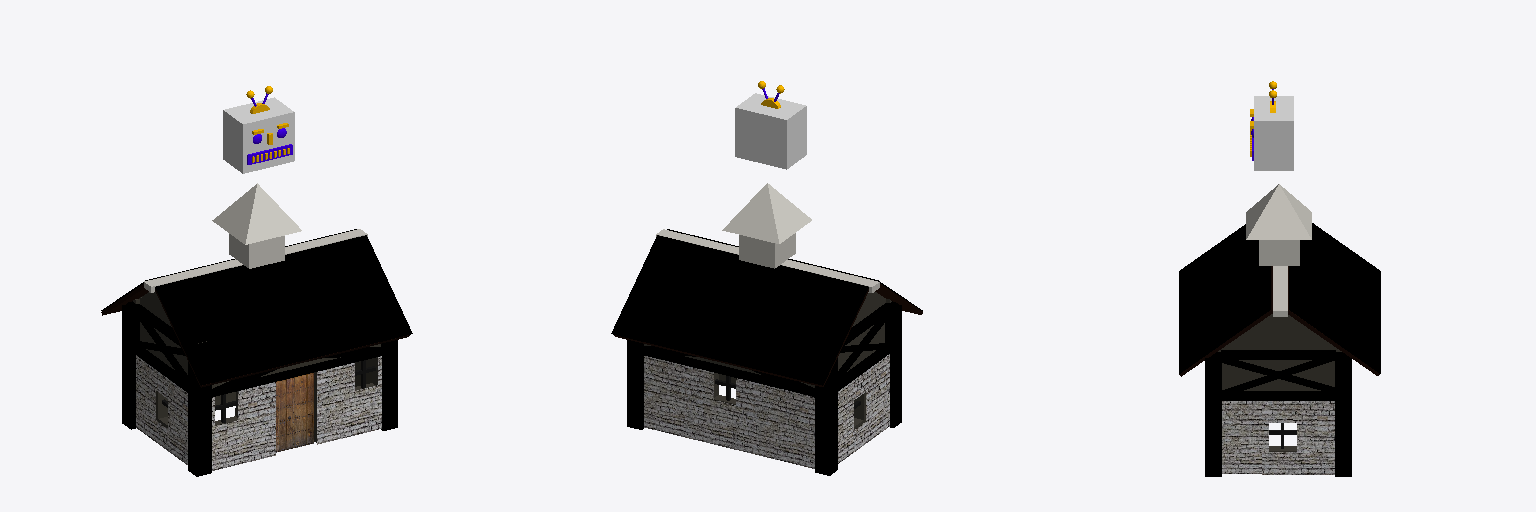
3 renders of one model, left to right at view 1: azimuth 30°, elevation 25°; view 2: azimuth 150°, elevation 25°; view 3: azimuth 270°, elevation 25°, orthographic.
Visible parts, largest first — view 1: DucksHOUSING1:polySurface15 DucksHOUSING1:polySurface23, DucksHOUSING1:pCube33, Robot:pCube25, DucksHOUSING1:pPlane9, DucksHOUSING1:pPlane8, DucksHOUSING1:pPlane20, DucksHOUSING1:polySurface19, DucksHOUSING1:pCube22, DucksHOUSING1:pCube29, DucksHOUSING1:pPlane15, DucksHOUSING1:pCube24, DucksHOUSING1:pPlane16 (+2 smaller); view 2: DucksHOUSING1:polySurface15 DucksHOUSING1:polySurface24, DucksHOUSING1:pCube33, Robot:pCube25, DucksHOUSING1:pPlane11, DucksHOUSING1:pPlane12, DucksHOUSING1:pPlane13, DucksHOUSING1:pCube24, DucksHOUSING1:pCube29, DucksHOUSING1:pPlane15, DucksHOUSING1:polySurface19, DucksHOUSING1:pPlane16, DucksHOUSING1:pCube22 (+2 smaller); view 3: DucksHOUSING1:polySurface15 DucksHOUSING1:polySurface24, DucksHOUSING1:polySurface15 DucksHOUSING1:polySurface23, DucksHOUSING1:pPlane19, DucksHOUSING1:polySurface19, DucksHOUSING1:pCube33, Robot:pCube25, DucksHOUSING1:pCube23, DucksHOUSING1:pCube21, DucksHOUSING1:pCube30 DucksHOUSING1:polySurface37, DucksHOUSING1:polySurface36 DucksHOUSING1:pCube30, DucksHOUSING1:pCube30 DucksHOUSING1:polySurface39, DucksHOUSING1:pCube30 DucksHOUSING1:polySurface38.
Part boxes in pixels (x1,y1,x2,y2): DucksHOUSING1:polySurface15 DucksHOUSING1:polySurface23: (155, 235, 412, 385); DucksHOUSING1:pCube33: (144, 183, 367, 292); Robot:pCube25: (223, 86, 294, 173); DucksHOUSING1:pPlane9: (317, 356, 381, 444); DucksHOUSING1:pPlane8: (212, 382, 275, 470); DucksHOUSING1:pPlane20: (276, 373, 313, 452); DucksHOUSING1:polySurface19: (133, 292, 380, 442); DucksHOUSING1:pCube22: (188, 362, 211, 476); DucksHOUSING1:pCube29: (127, 301, 187, 392); DucksHOUSING1:pPlane15: (136, 355, 168, 449); DucksHOUSING1:pCube24: (122, 304, 139, 429); DucksHOUSING1:pPlane16: (158, 372, 187, 464); DucksHOUSING1:polySurface15 DucksHOUSING1:polySurface24: (611, 235, 868, 385); DucksHOUSING1:pCube33: (656, 183, 879, 292); Robot:pCube25: (735, 81, 806, 169); DucksHOUSING1:pPlane11: (752, 383, 814, 468); DucksHOUSING1:pPlane12: (644, 356, 706, 440); DucksHOUSING1:pPlane13: (684, 365, 758, 453); DucksHOUSING1:pCube24: (815, 358, 837, 475); DucksHOUSING1:pCube29: (838, 301, 897, 390); DucksHOUSING1:pPlane15: (838, 368, 870, 463); DucksHOUSING1:polySurface19: (644, 292, 891, 429); DucksHOUSING1:pPlane16: (853, 354, 889, 452); DucksHOUSING1:pCube22: (885, 304, 901, 427); DucksHOUSING1:polySurface15 DucksHOUSING1:polySurface24: (1289, 223, 1380, 373); DucksHOUSING1:polySurface15 DucksHOUSING1:polySurface23: (1179, 224, 1270, 373); DucksHOUSING1:pPlane19: (1222, 401, 1334, 474); DucksHOUSING1:polySurface19: (1218, 314, 1341, 451); DucksHOUSING1:pCube33: (1246, 184, 1311, 316); Robot:pCube25: (1250, 81, 1293, 170); DucksHOUSING1:pCube23: (1335, 356, 1351, 476); DucksHOUSING1:pCube21: (1205, 357, 1221, 476); DucksHOUSING1:pCube30 DucksHOUSING1:polySurface37: (1211, 350, 1346, 359); DucksHOUSING1:polySurface36 DucksHOUSING1:pCube30: (1222, 391, 1334, 400); DucksHOUSING1:pCube30 DucksHOUSING1:polySurface39: (1222, 360, 1334, 392); DucksHOUSING1:pCube30 DucksHOUSING1:polySurface38: (1222, 360, 1334, 392).
Bounding box in the file's own units: 14.41 × 21.62 × 11.68.
13 materials, 2 textured.